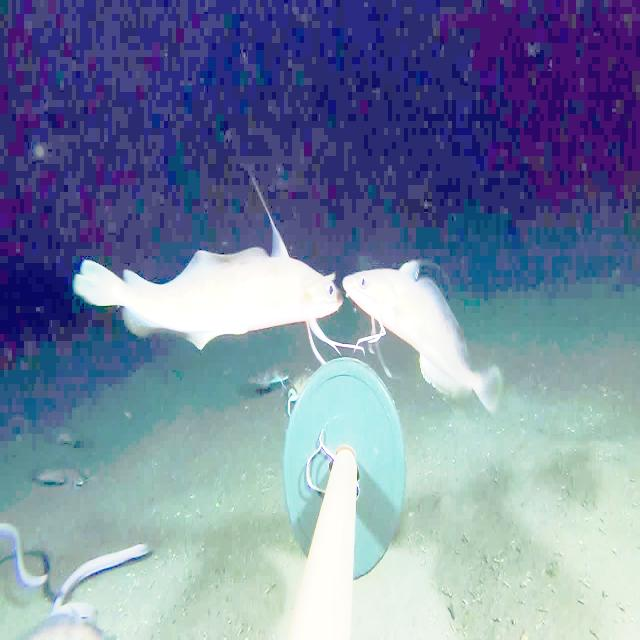eel: (48, 530, 160, 624), (6, 518, 59, 598)
fish: (68, 232, 344, 370), (342, 266, 506, 422), (29, 443, 99, 494), (282, 359, 321, 410), (245, 353, 288, 390)
pole: (276, 384, 404, 592)
